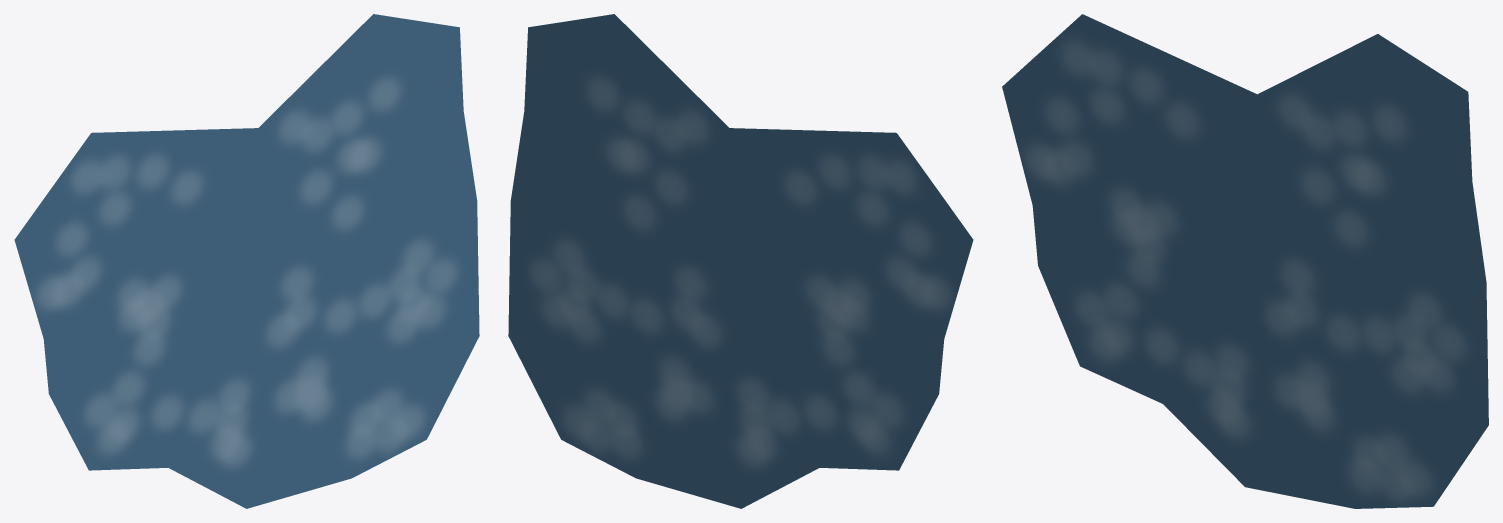
The model's file is WaterPool.gltf.
3 renders of one model, left to right at view 1: azimuth 30°, elevation 25°; view 2: azimuth 150°, elevation 25°; view 3: azimuth 330°, elevation 25°, orthographic. The views are drawn at different scales.
Visible parts, largest first — view 1: Plane; view 2: Plane; view 3: Plane.
Part boxes in pixels (box(x1,y1,x2,y2)): Plane: box(14, 14, 479, 508); Plane: box(508, 14, 973, 508); Plane: box(1002, 14, 1488, 508).
Bounding box in the file's own units: 0.91 × 0.8676 × 2.98e-08.
Materials: 1 (1 with a texture image).
